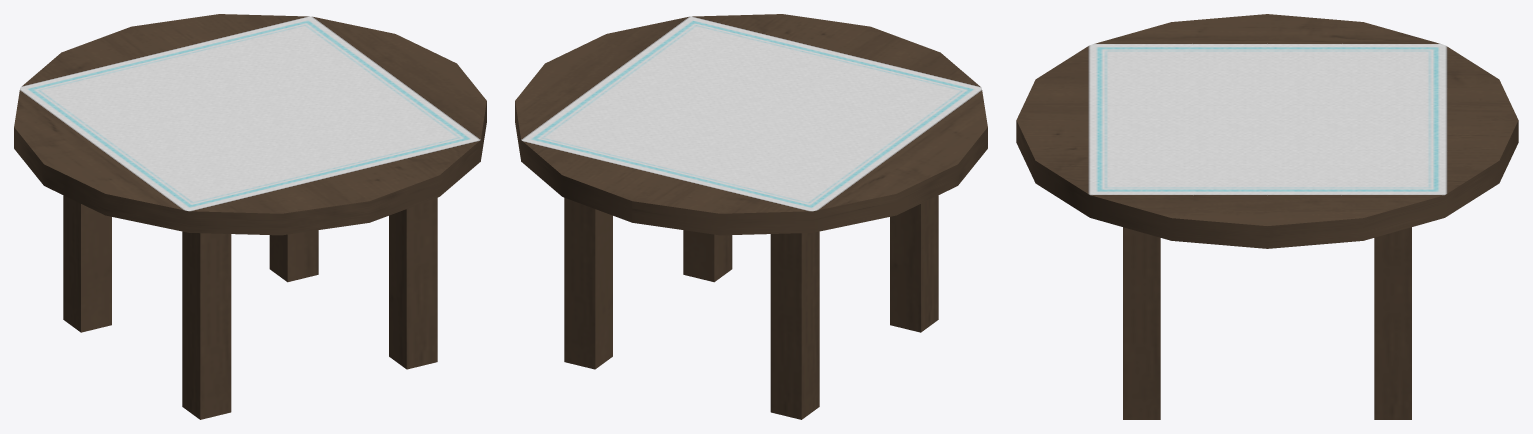
Rendered from table.fbx.
3 views of the same model, side by side, from view 1: azimuth 30°, elevation 25°; view 2: azimuth 150°, elevation 25°; view 3: azimuth 270°, elevation 25° (orthographic). The views are drawn at different scales.
Parts seen in each view (by area): view 1: table; view 2: table; view 3: table.
Boxes of the visible parts, x1=… form: table: x1=14, y1=14, x2=486, y2=419; table: x1=515, y1=14, x2=987, y2=419; table: x1=1016, y1=14, x2=1518, y2=419.
Size of the model in its own units: 2 by 1.05 by 2.
1 material, 1 textured.
